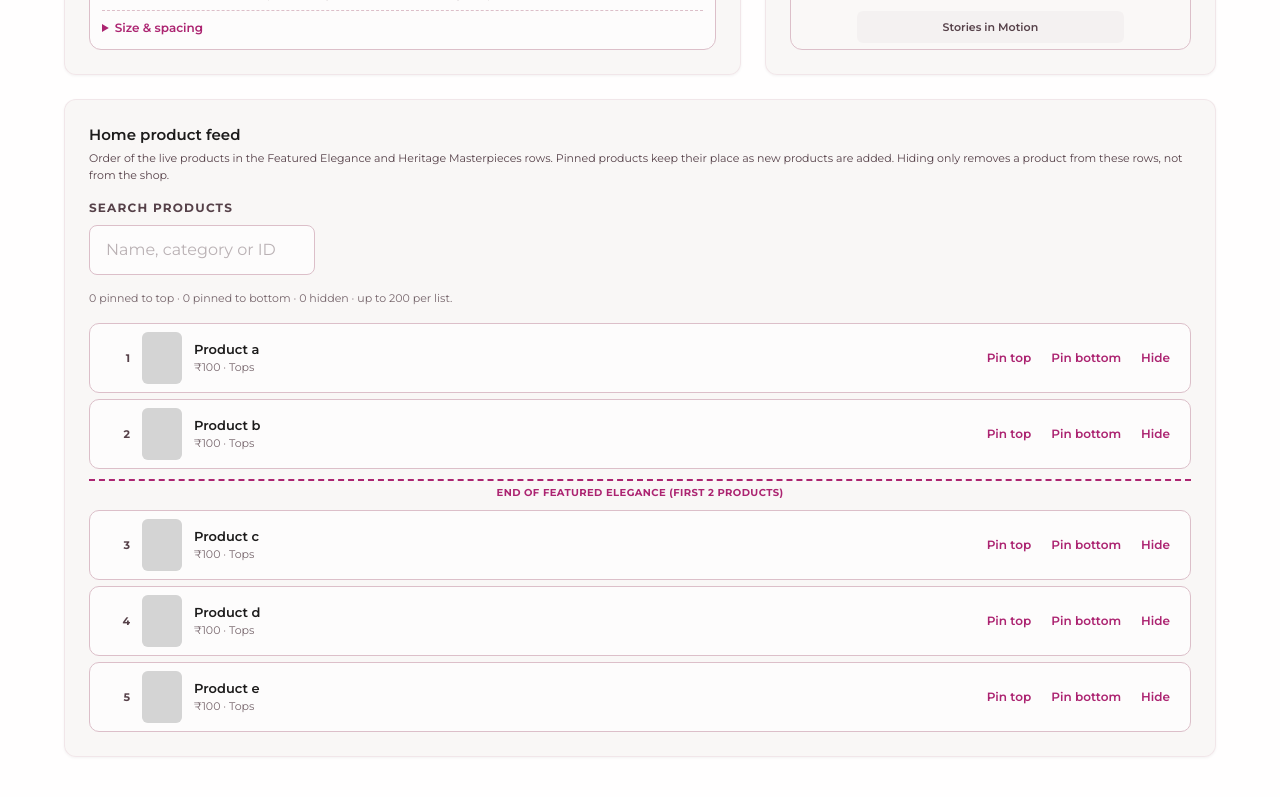
Scenario: AdminHomeLayoutPage › moves a hidden product out of the feed and lists it under "Hidden"
(page scrolled)
Click the button "Hide" in the row of "Product b" at coordinates (1156, 434), box x1=1133 y1=421 x2=1178 y2=447
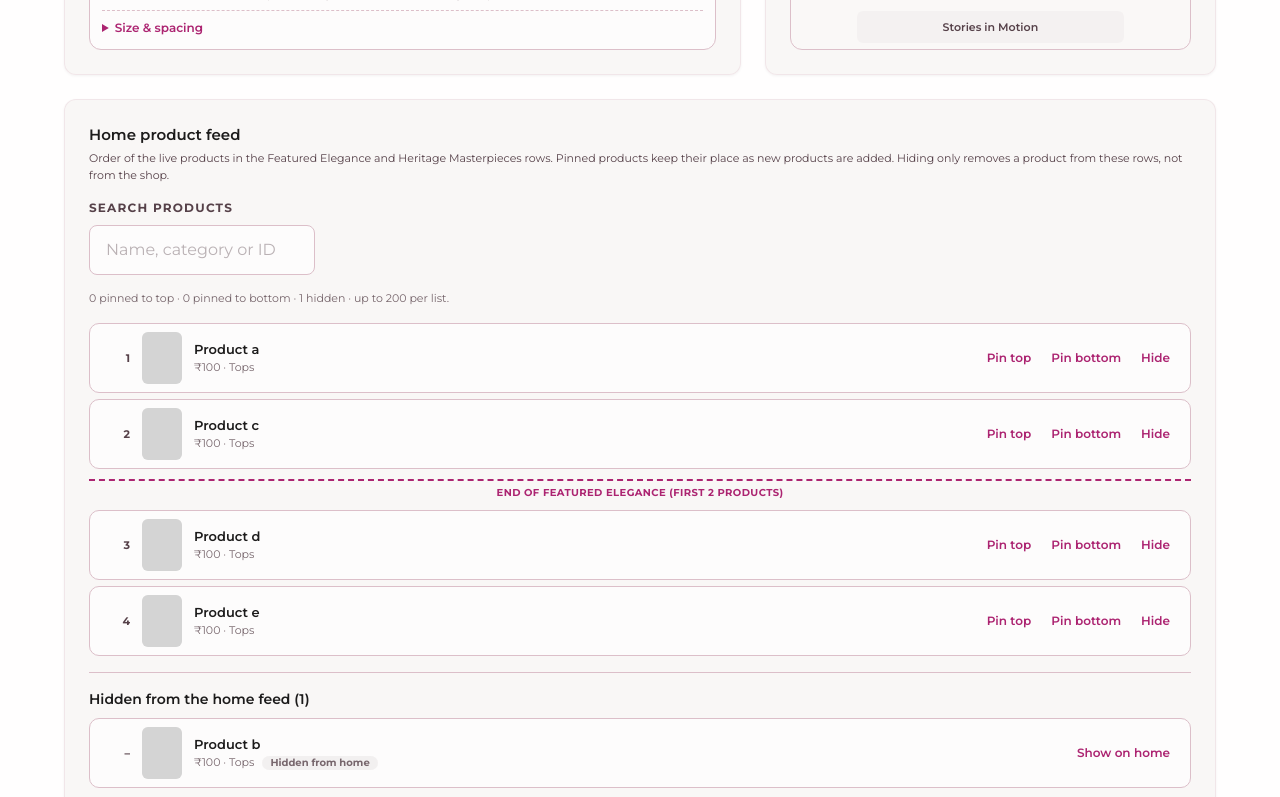
Expected: the element with class "hl-products" no longer shows "Product b"
Expected: the heading "Hidden from the home feed (1)" is shown, x1=89 y1=690 x2=310 y2=708
